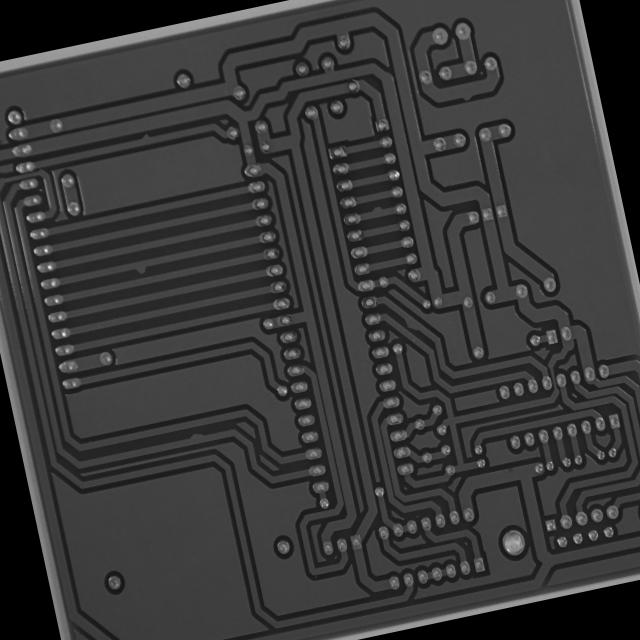spur: (397, 308, 424, 336), (125, 254, 152, 280), (134, 127, 156, 148), (366, 200, 389, 220), (454, 85, 478, 104)
